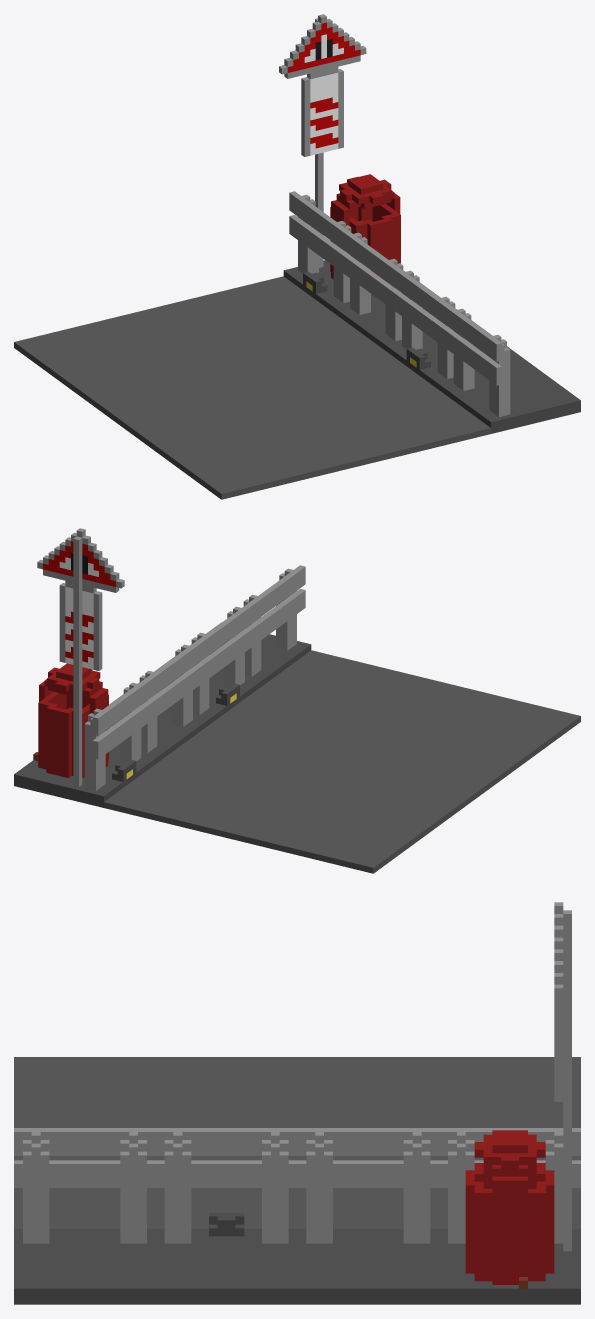
File: Tutorialmap_V2_unfinished-8.obj
The picture shows the model from 3 angles, top to bottom: view 1: azimuth 30°, elevation 25°; view 2: azimuth 150°, elevation 25°; view 3: azimuth 270°, elevation 25°; orthographic projection. The views are drawn at different scales.
Bounding box in the file's own units: 6.4 × 4.5 × 6.4.
1 material, 1 textured.
